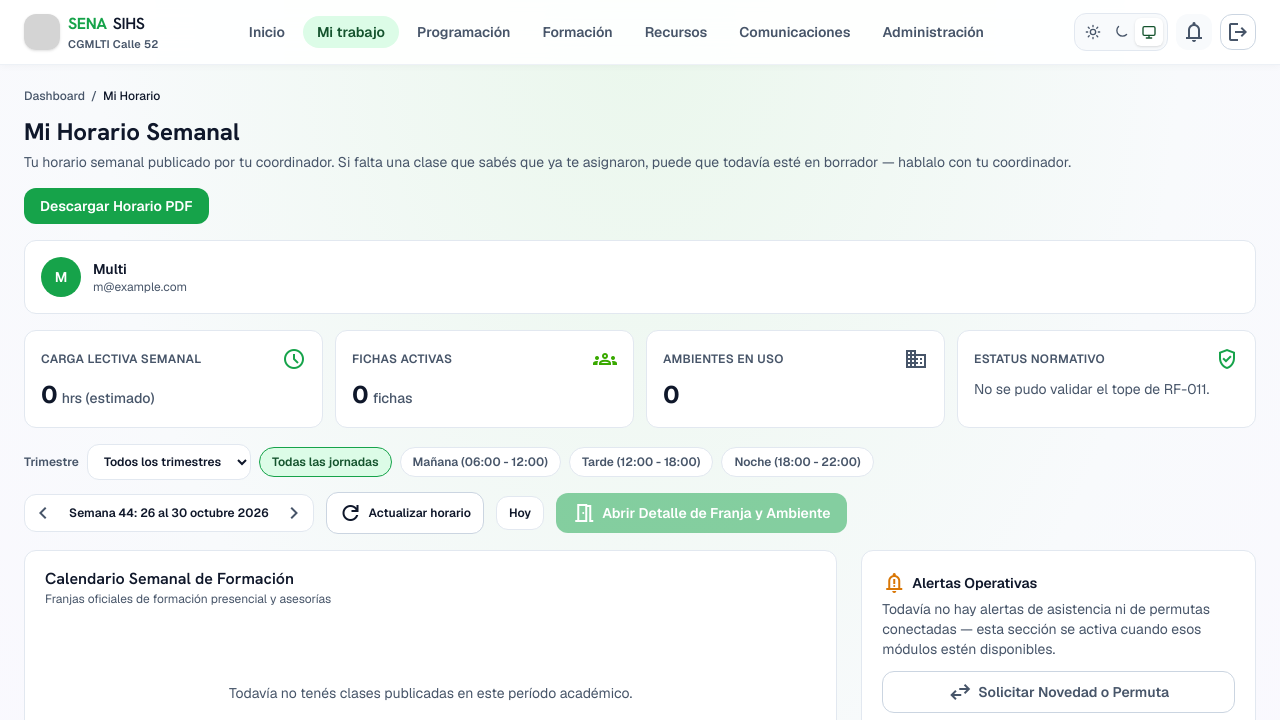
MiHorario › un usuario con roles Instructor y Coordinador a la vez ve ambos mundos
What coordinates should you click on to do the following:
click the button "Mi trabajo"
I would click on:
 (351, 32)
Its box is x1=303 y1=16 x2=399 y2=48.
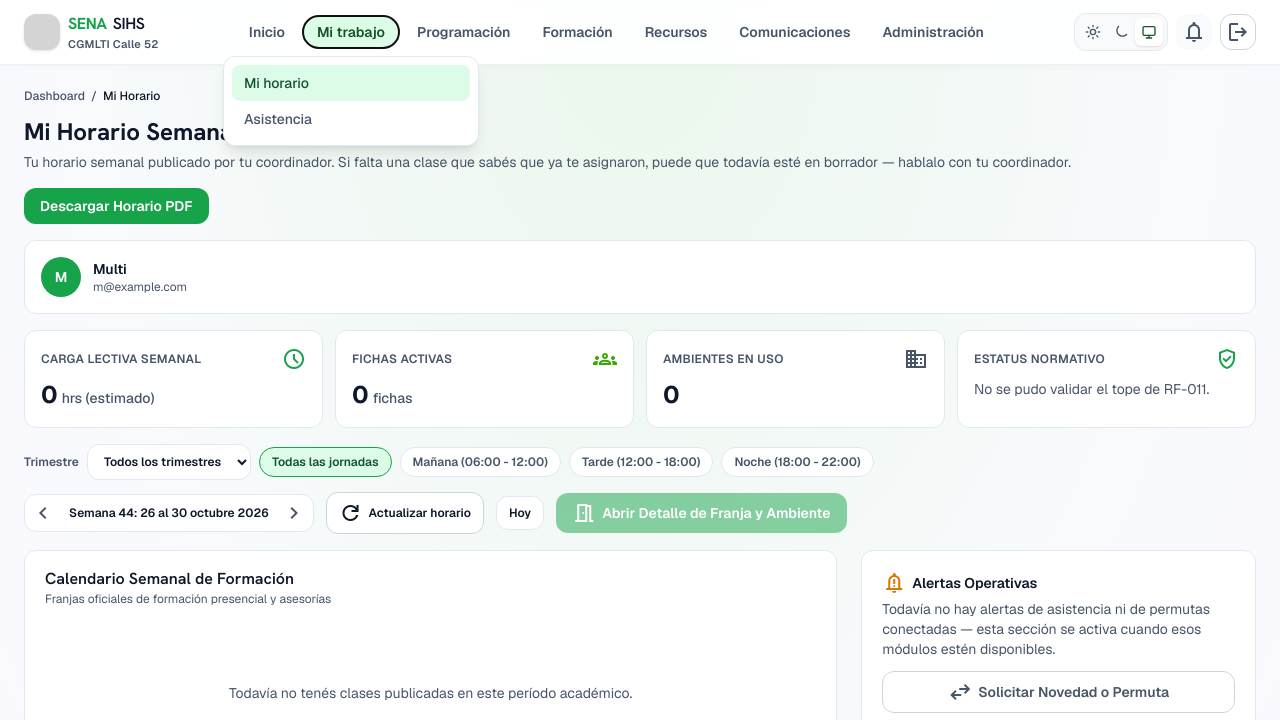
Expected: the link "Mi horario" is shown, x1=232 y1=65 x2=470 y2=101
What coordinates should you click on to do the following:
click the button "Formación"
I would click on:
 (578, 32)
Its box is x1=528 y1=16 x2=627 y2=48.
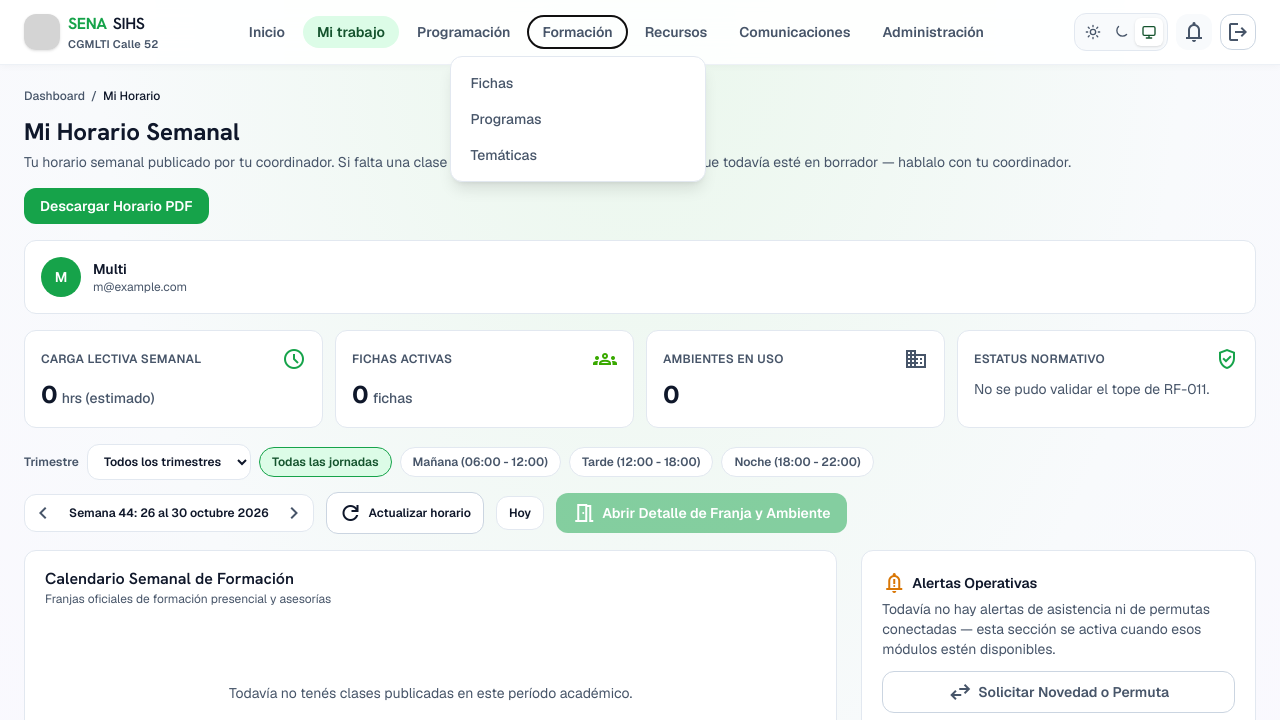
Expected: the link "Fichas" is shown, x1=470 y1=74 x2=513 y2=92
